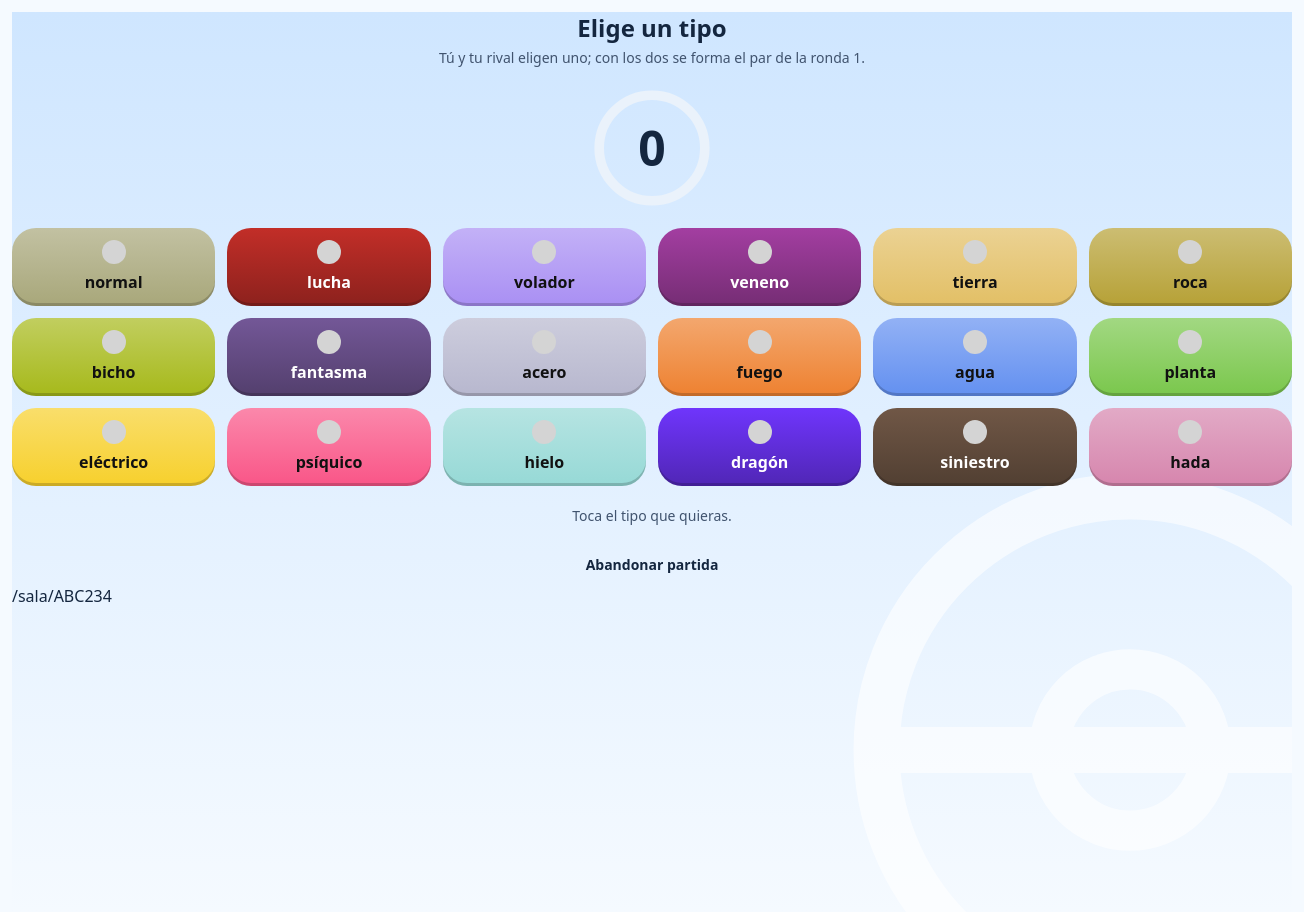
elección de tipo (modo elegido) › al tocar un tipo lo envía y lo deja marcado; al confirmarlo el servidor, bloquea los demás
Click the button "fuego".
click(760, 357)  # box [658,318,861,396]
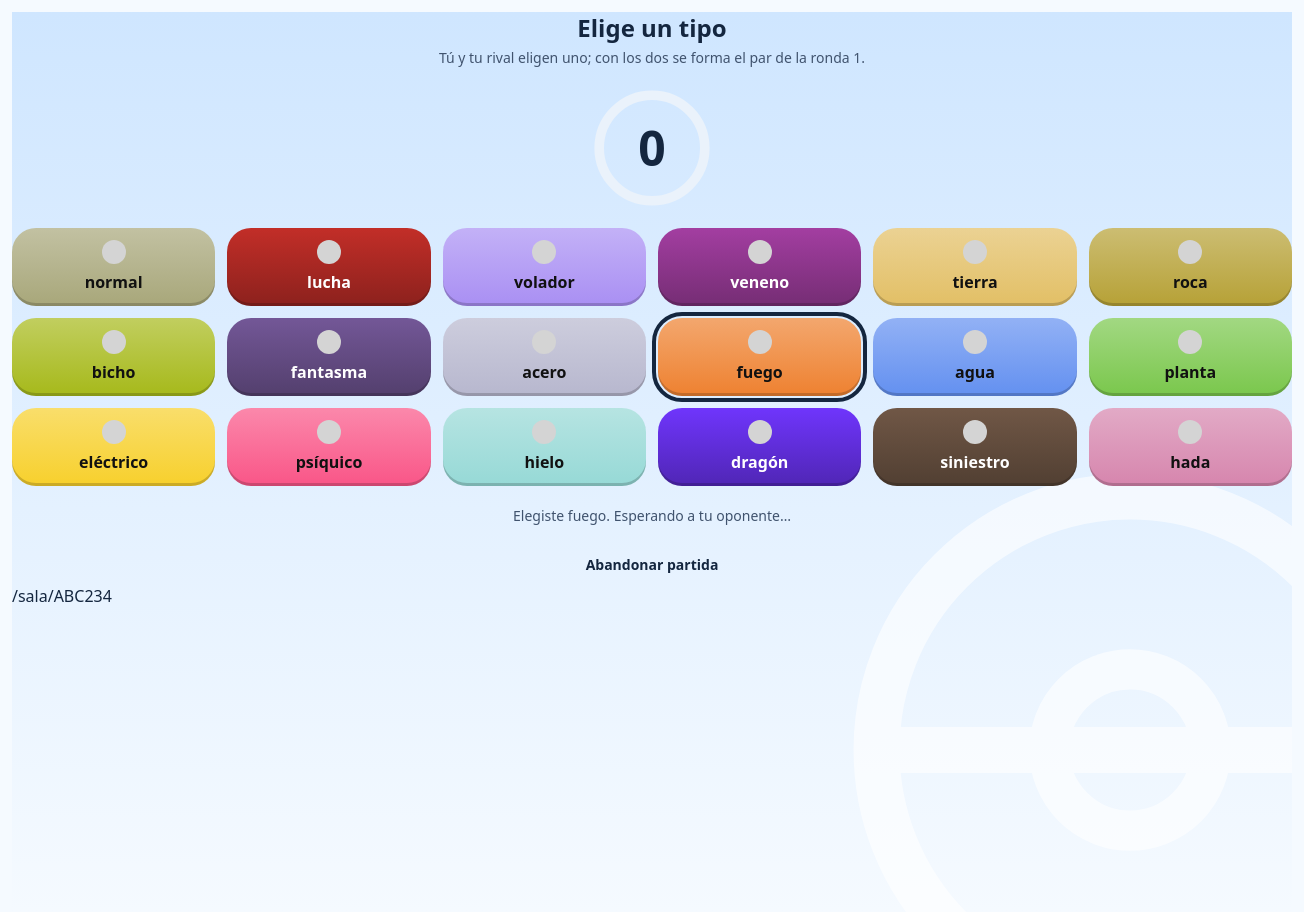
Expected: the button "normal" is disabled, [12,228,215,306]
Result: the message reads "Elegiste fuego. Esperando a tu oponente…" at [513,506,791,525]
Result: the button "fuego" is disabled at [658,318,861,396]
